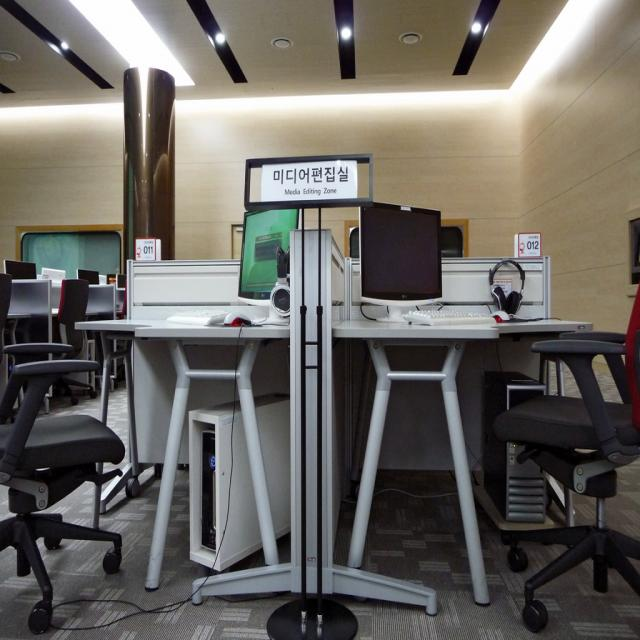chair: (499, 282, 640, 628), (0, 350, 126, 632)
desk: (78, 230, 591, 616)
keyboard: (403, 305, 498, 325)
mouse: (223, 313, 253, 326)
tv: (359, 203, 443, 304), (239, 207, 299, 299)
